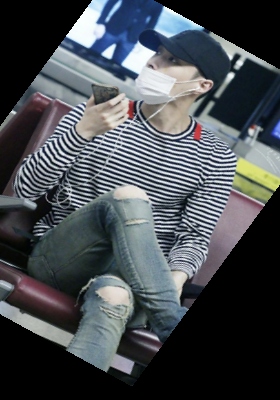mask_weared_incorrect: (133, 18, 235, 115)
